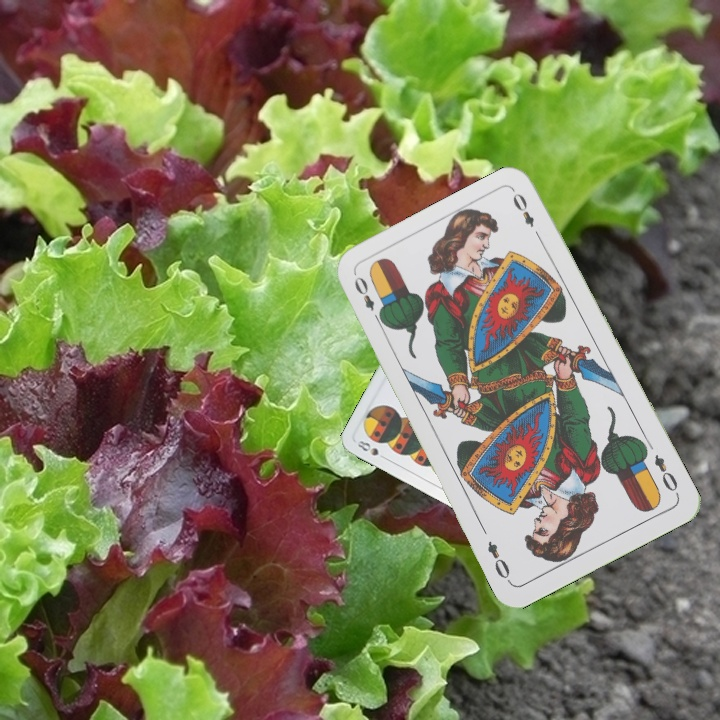EO: (350, 272, 386, 327), (650, 450, 682, 498)
S8: (353, 436, 391, 463)
